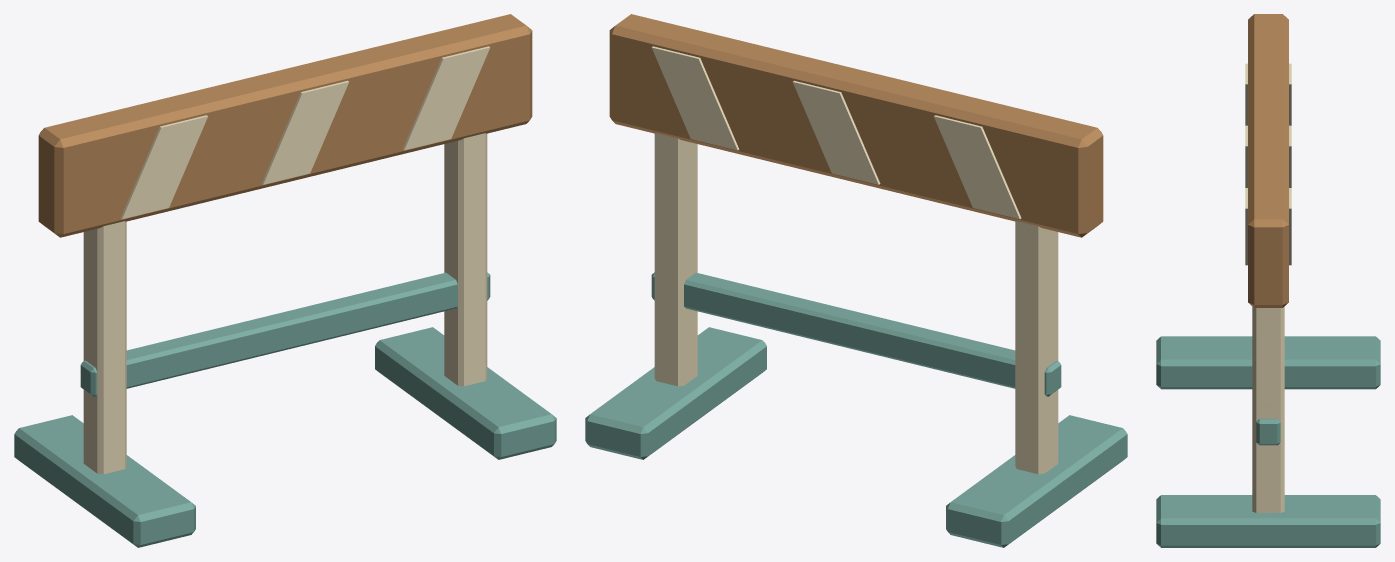
3 renders of one model, left to right at view 1: azimuth 30°, elevation 25°; view 2: azimuth 150°, elevation 25°; view 3: azimuth 270°, elevation 25°, orthographic. The views are drawn at different scales.
Parts seen in each view (by area): view 1: transport-road-barrier-01; view 2: transport-road-barrier-01; view 3: transport-road-barrier-01.
Part boxes in pixels (box(x1,y1,x2,y2)): transport-road-barrier-01: box(14, 14, 556, 547); transport-road-barrier-01: box(585, 14, 1127, 547); transport-road-barrier-01: box(1156, 14, 1380, 547).
Bounding box in the file's own units: 1.22 × 0.92 × 0.55.
